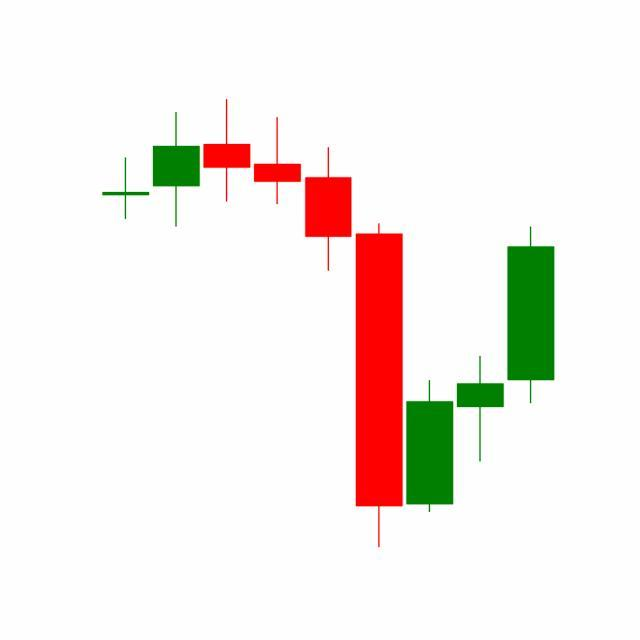Hikkake Pattern: (252, 113, 506, 549)
